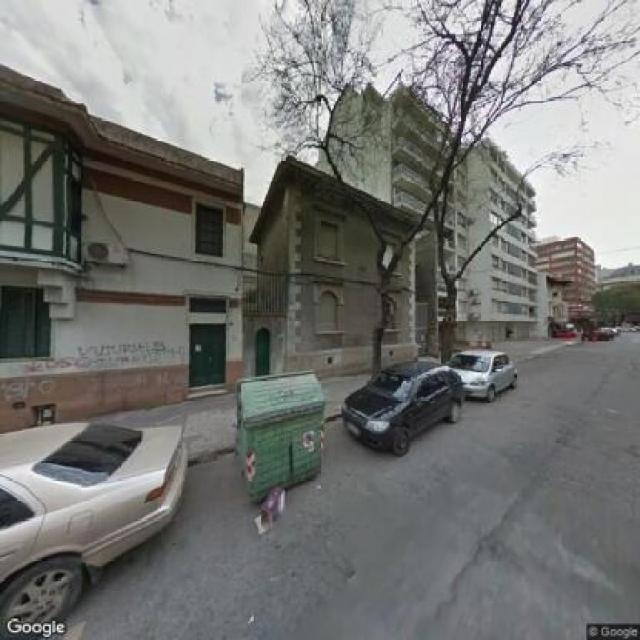garbage: (243, 491, 292, 536)
